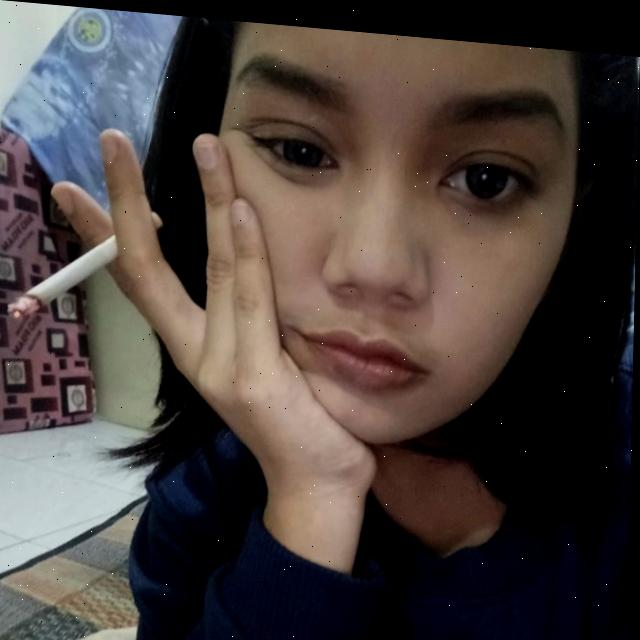cigarette: (8, 197, 165, 331)
